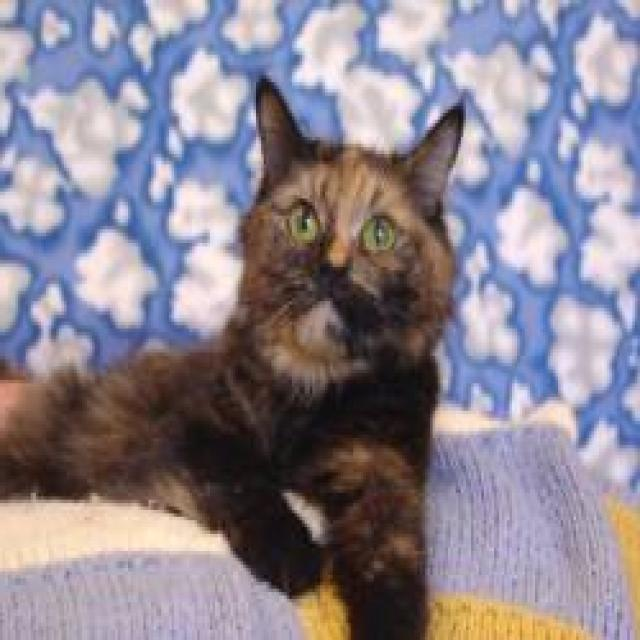Kucing: (0, 38, 488, 614)
